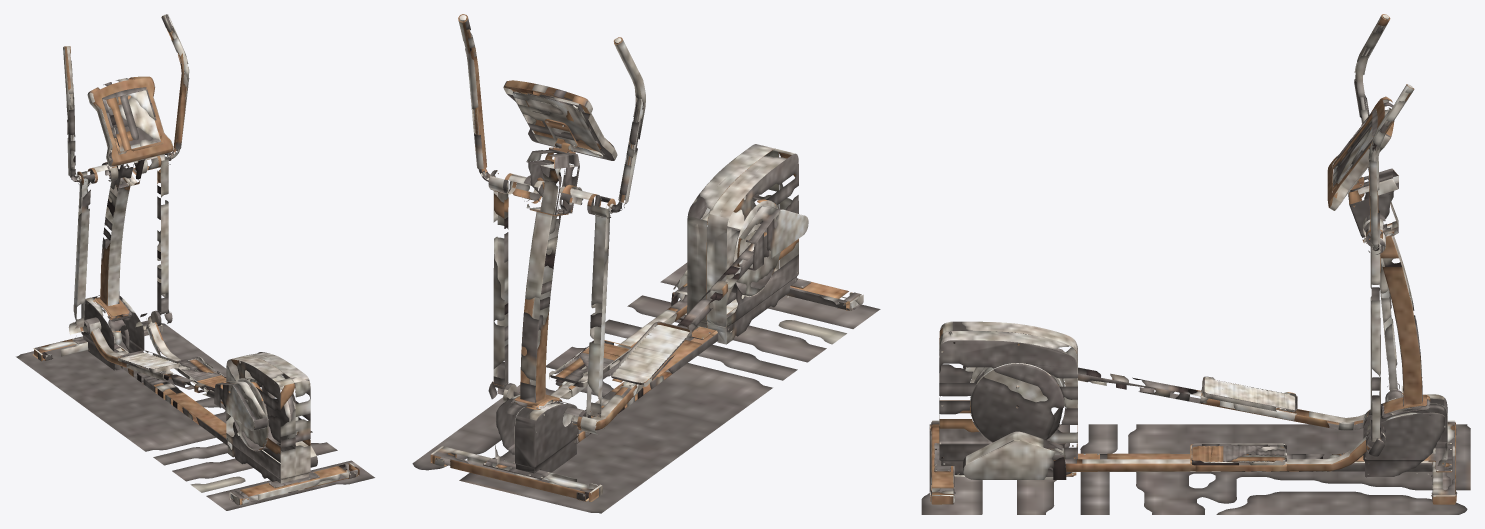
Rendered from raw_model.obj.
3 views of the same model, side by side, from view 1: azimuth 30°, elevation 25°; view 2: azimuth 150°, elevation 25°; view 3: azimuth 270°, elevation 25° (orthographic). The views are drawn at different scales.
Parts seen in each view (by area): view 1: solid_006, solid_005, shadow, solid_007, glass_001, solid_003, solid_004; view 2: solid_006, shadow, solid_005, solid_007, solid_004; view 3: solid_006, shadow, solid_005, solid_007, glass_001, solid_004.
Boxes of the visible parts, x1,y1,x2,y2 form: solid_006: (68,76,317,483); solid_005: (34,156,357,504); shadow: (16,323,374,510); solid_007: (33,14,359,505); glass_001: (105,90,160,150); solid_003: (108,95,160,151); solid_004: (46,14,355,501); solid_006: (488,80,808,479); shadow: (412,262,880,513); solid_005: (432,119,860,501); solid_007: (430,14,863,501); solid_004: (435,15,845,496); solid_006: (939,96,1447,479); shadow: (921,424,1470,514); solid_005: (930,177,1456,502); solid_007: (931,14,1455,504); glass_001: (1333,113,1373,186); solid_004: (929,14,1457,496).
Size of the model in its own units: 0.6414 by 1.39 by 1.66.
